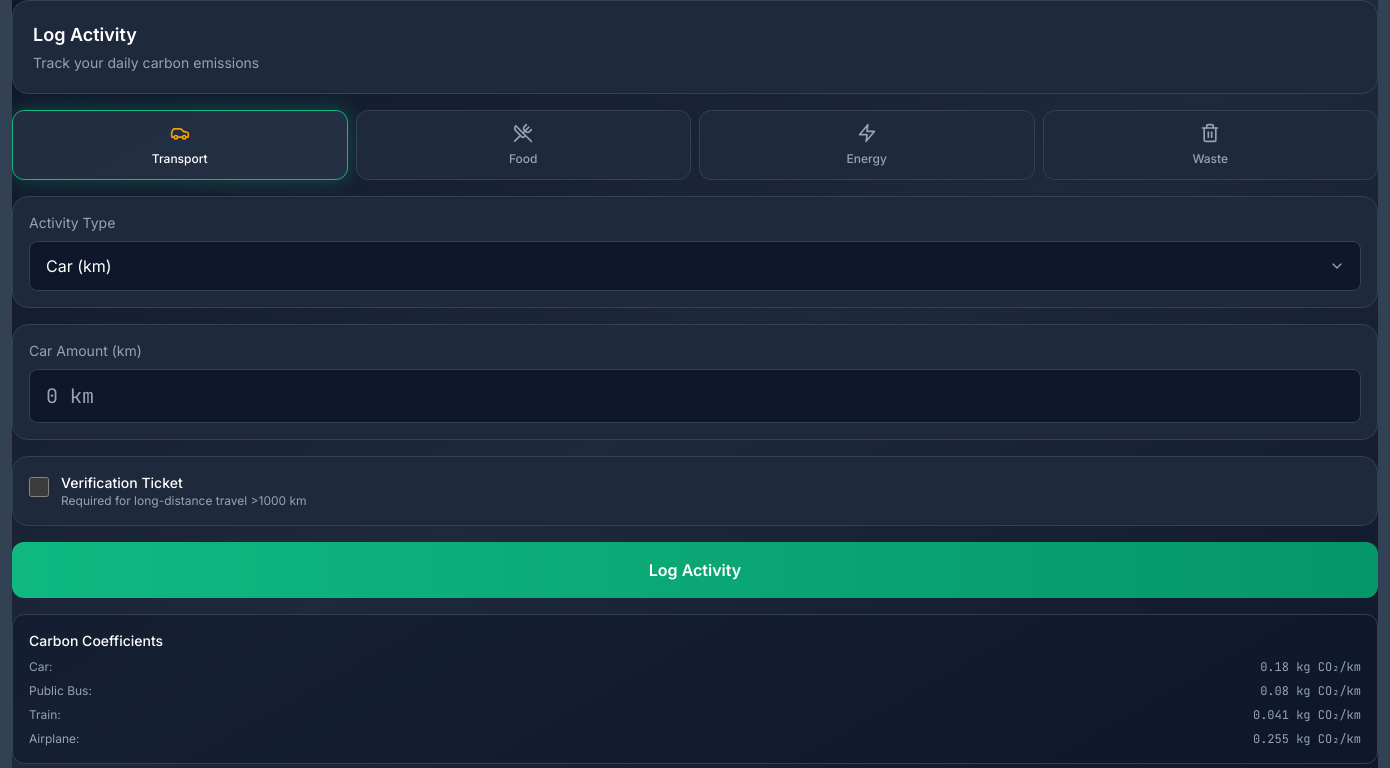
Test: ActivityLogger – Category Selection › switches to energy category on click
Click the button with aria-label "select energy category".
click(867, 145)  # box [699, 110, 1034, 180]
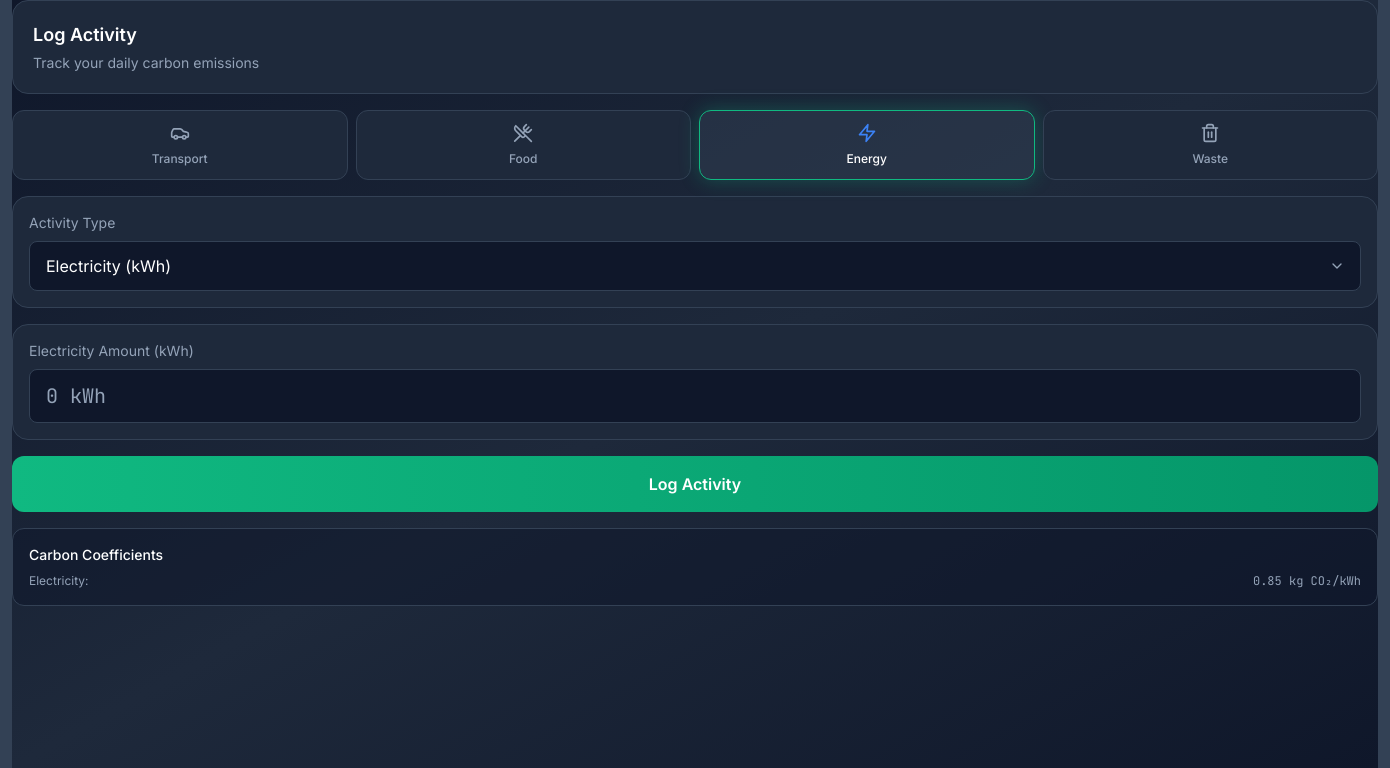
Now the dropdown labelled "Activity Type" shows "Electricity (kWh)", box [29, 241, 1361, 291]
